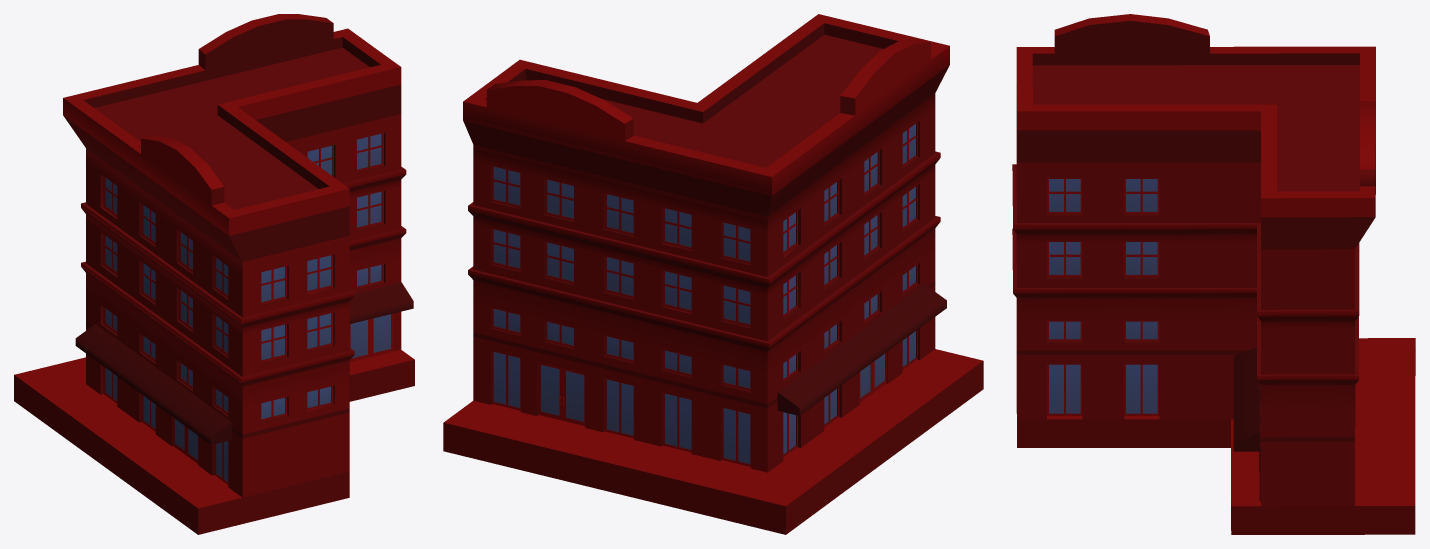
File: RC_ComBuilding1.fbx
The picture shows the model from 3 angles, left to right: view 1: azimuth 30°, elevation 25°; view 2: azimuth 150°, elevation 25°; view 3: azimuth 270°, elevation 25°; orthographic projection. The views are drawn at different scales.
Visible parts, largest first — view 1: base.075, windowRefl.057, color.004; view 2: base.075, windowRefl.057, color.004; view 3: base.075, windowRefl.057, color.004.
Boxes of the visible parts, x1=… form: base.075: x1=14, y1=14, x2=414, y2=534; windowRefl.057: x1=105, y1=133, x2=390, y2=481; color.004: x1=75, y1=282, x2=413, y2=444; base.075: x1=443, y1=14, x2=983, y2=534; windowRefl.057: x1=493, y1=124, x2=915, y2=463; color.004: x1=777, y1=284, x2=946, y2=415; base.075: x1=1012, y1=14, x2=1415, y2=534; windowRefl.057: x1=1049, y1=179, x2=1157, y2=413; color.004: x1=1233, y1=347, x2=1260, y2=451.
Size of the model in its own units: 2358 by 2402 by 2365.
